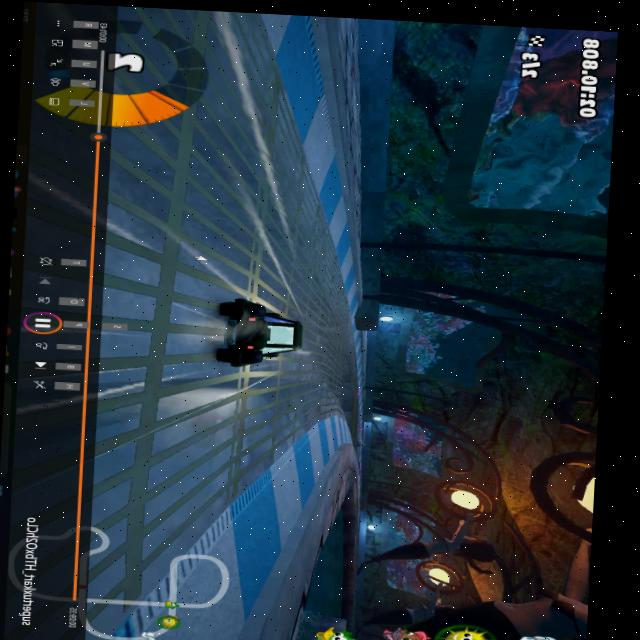player_kart: (208, 291, 304, 375)
track: (83, 6, 205, 571), (189, 12, 274, 291), (173, 370, 317, 443), (263, 182, 330, 297), (182, 440, 265, 504), (316, 279, 351, 418), (262, 101, 311, 183), (175, 500, 221, 535), (344, 396, 366, 439), (348, 363, 366, 398)
